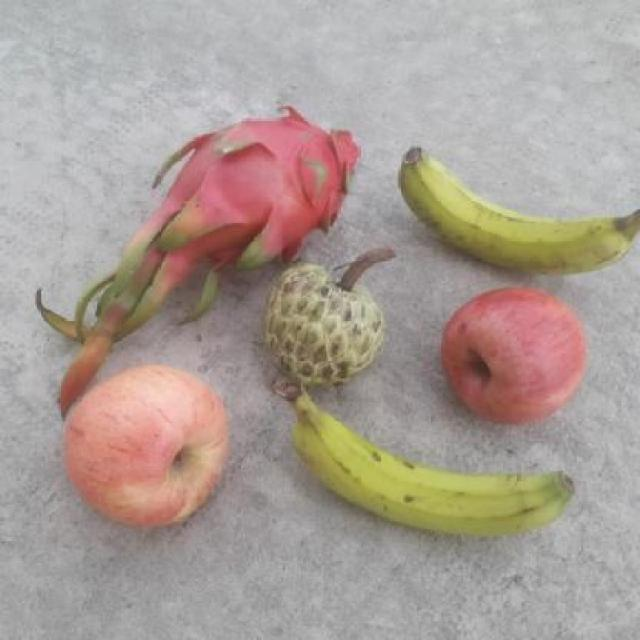apple: (60, 365, 235, 527), (438, 286, 590, 428)
banana: (272, 374, 577, 538), (394, 139, 626, 276)
dragon fruit: (152, 108, 350, 263)
sugar apple: (262, 258, 380, 387)
